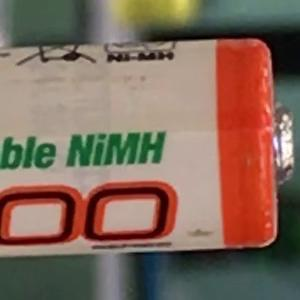keyword: (56, 122, 175, 176)
